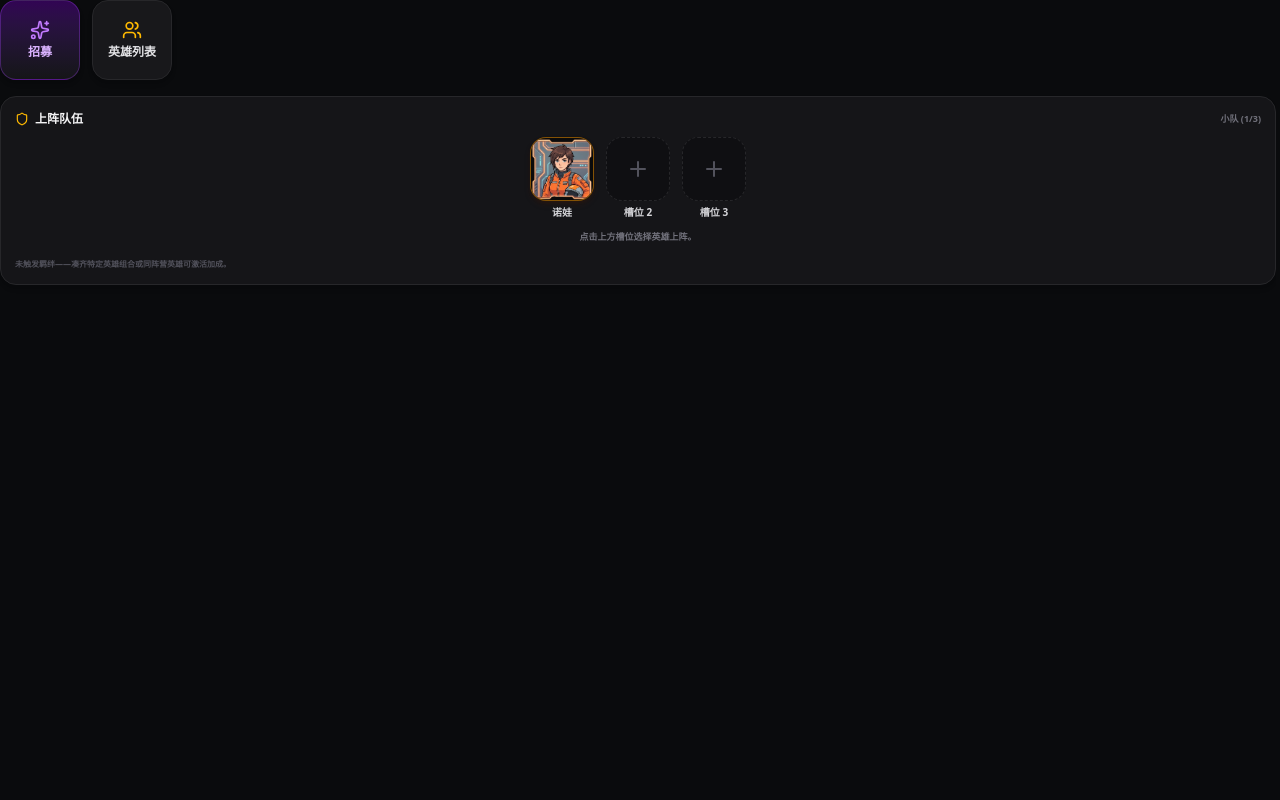
HeroTab Component › opens the hero dossier from the duty card (ticket 10)
What coordinates should you click on to do the following:
click the text "英雄列表"
I would click on:
 (132, 52)
Its box is left=108, top=44, right=156, bottom=60.
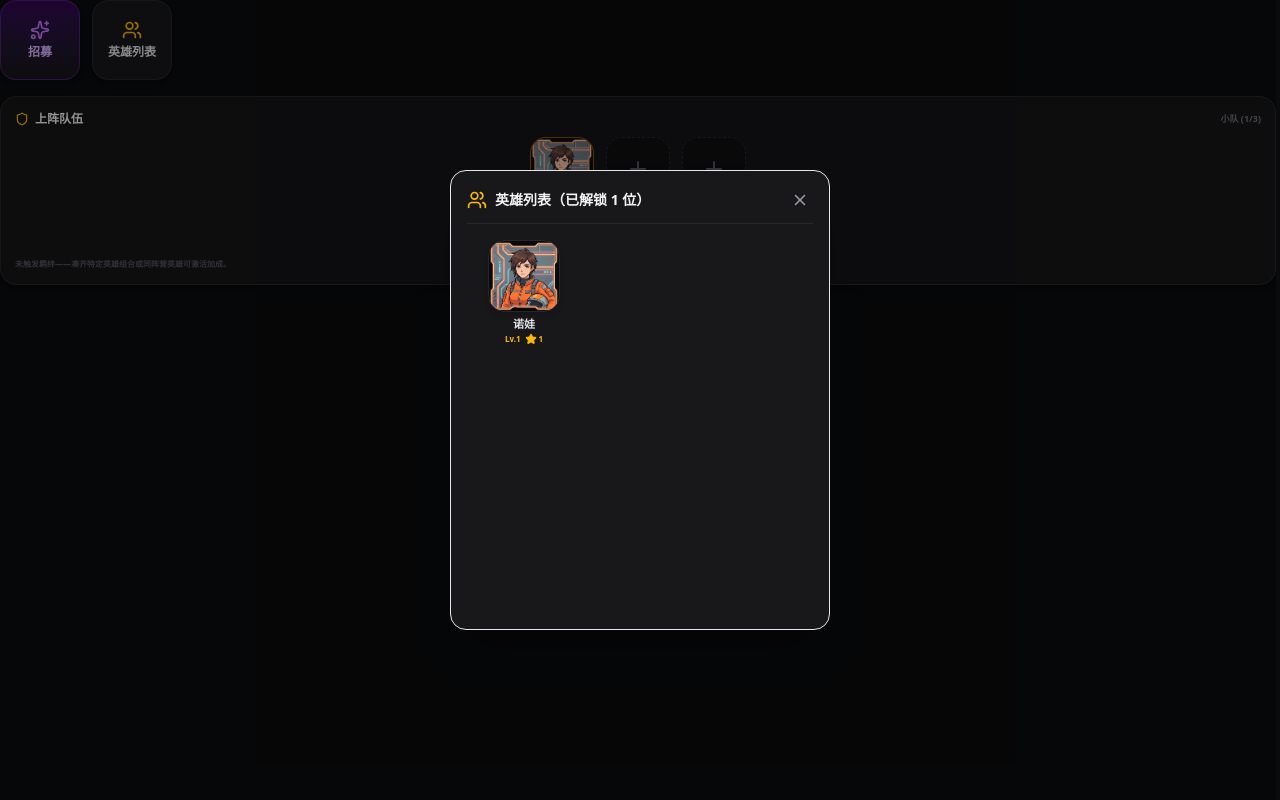
What coordinates should you click on to do the following:
click the element with test id "hero-card-nova"
I would click on:
 (524, 293)
Its box is left=488, top=240, right=560, bottom=345.
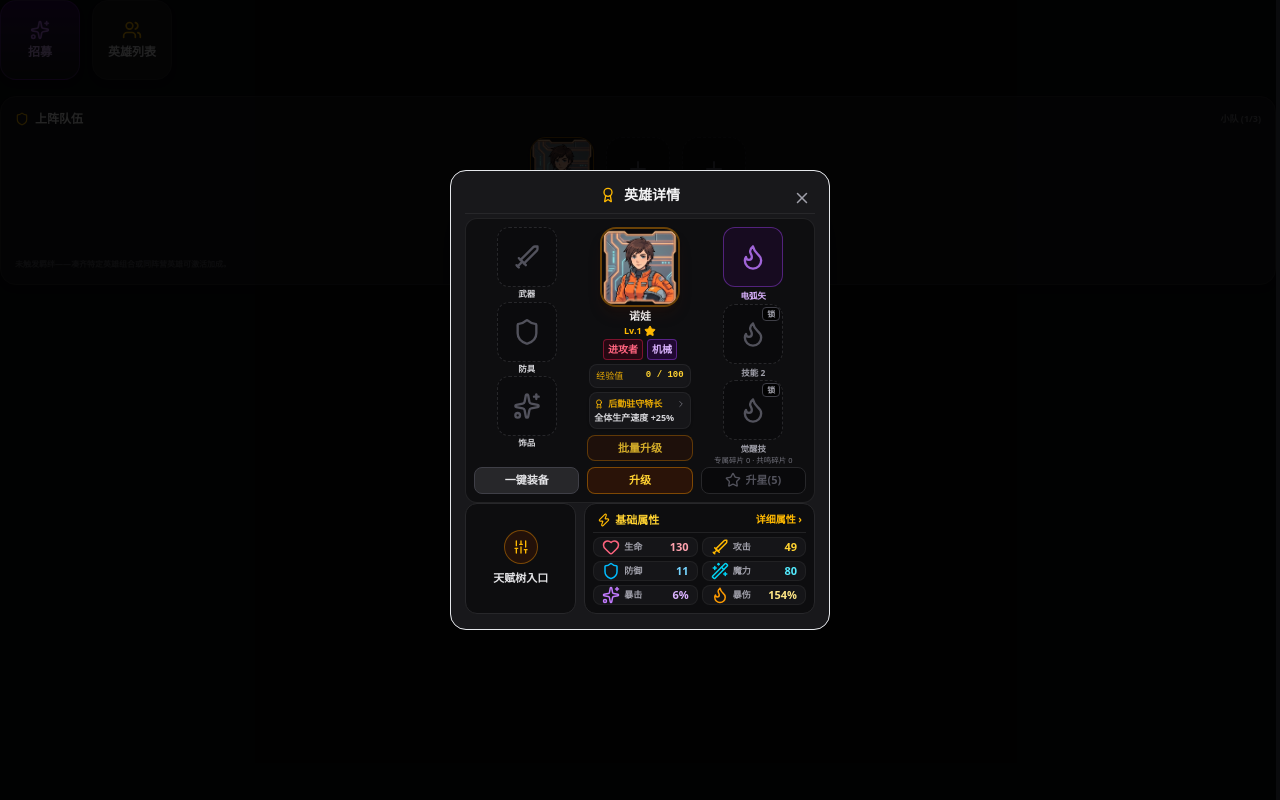
// 后勤驻守特长卡片 → 英雄档案弹窗
What coordinates should you click on to do the following:
click the text "后勤驻守特长"
I would click on:
 (640, 404)
Its box is left=594, top=397, right=686, bottom=410.
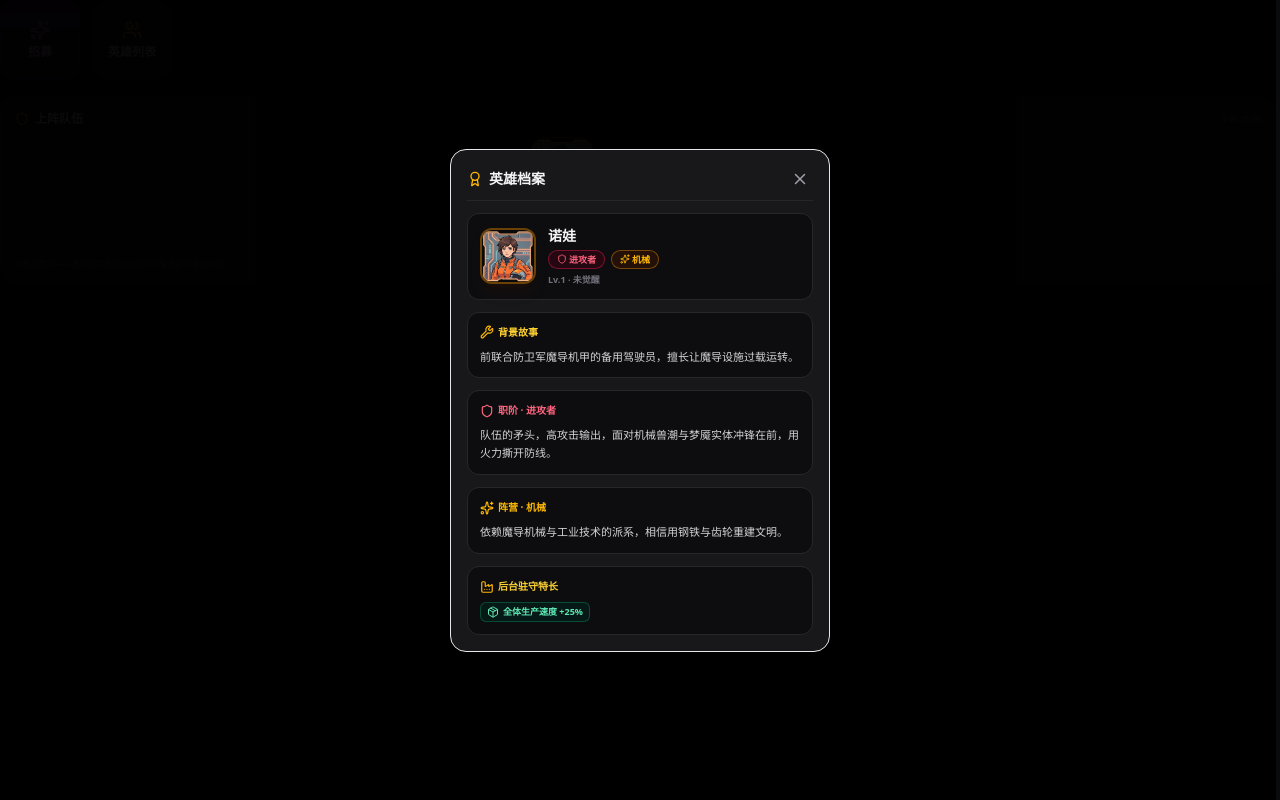
Now the heading "英雄档案" is shown, box left=489, top=168, right=545, bottom=188
Now the heading "职阶 · 进攻者" is shown, box left=480, top=403, right=556, bottom=418
Now the heading "阵营 · 机械" is shown, box left=480, top=500, right=546, bottom=515
What coordinates should you click on to do the following:
click the button titled "关闭"
I would click on:
 (800, 178)
Its box is left=787, top=166, right=813, bottom=192.
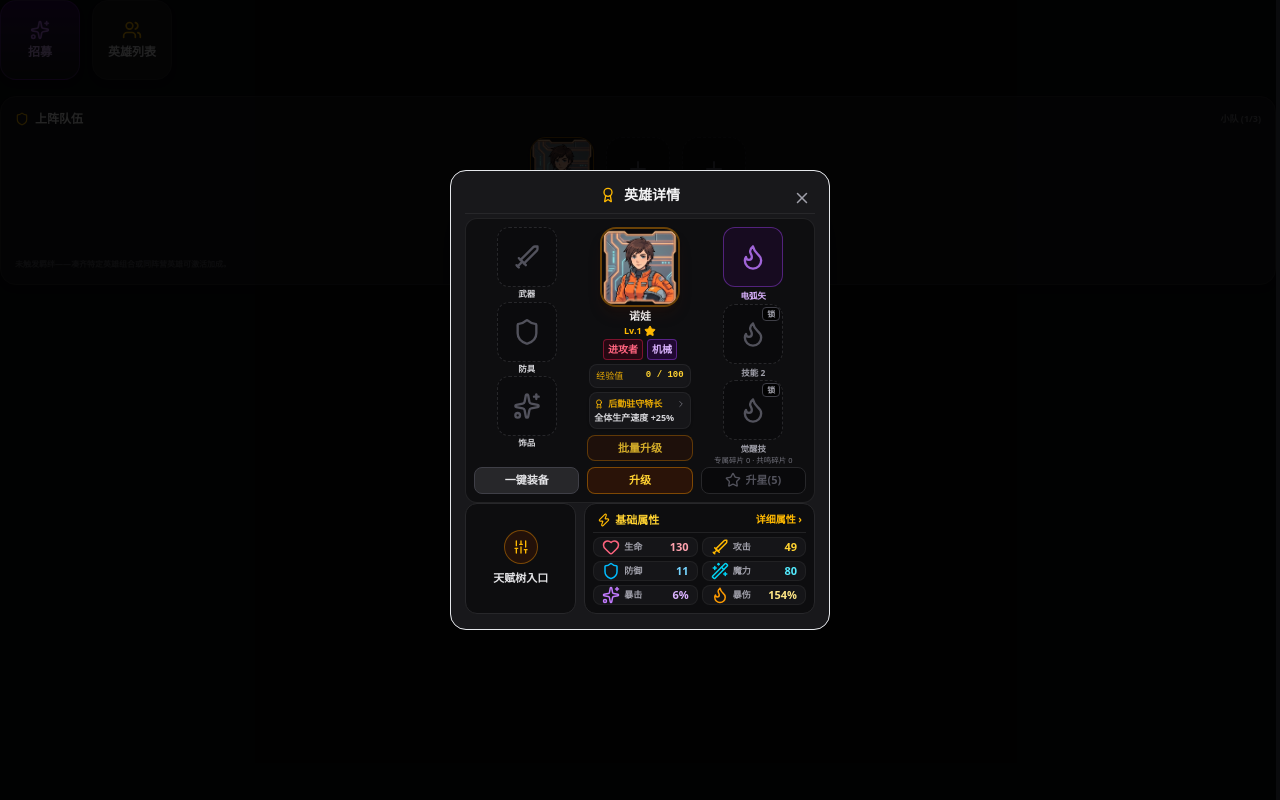
Now the heading "英雄档案" is gone
